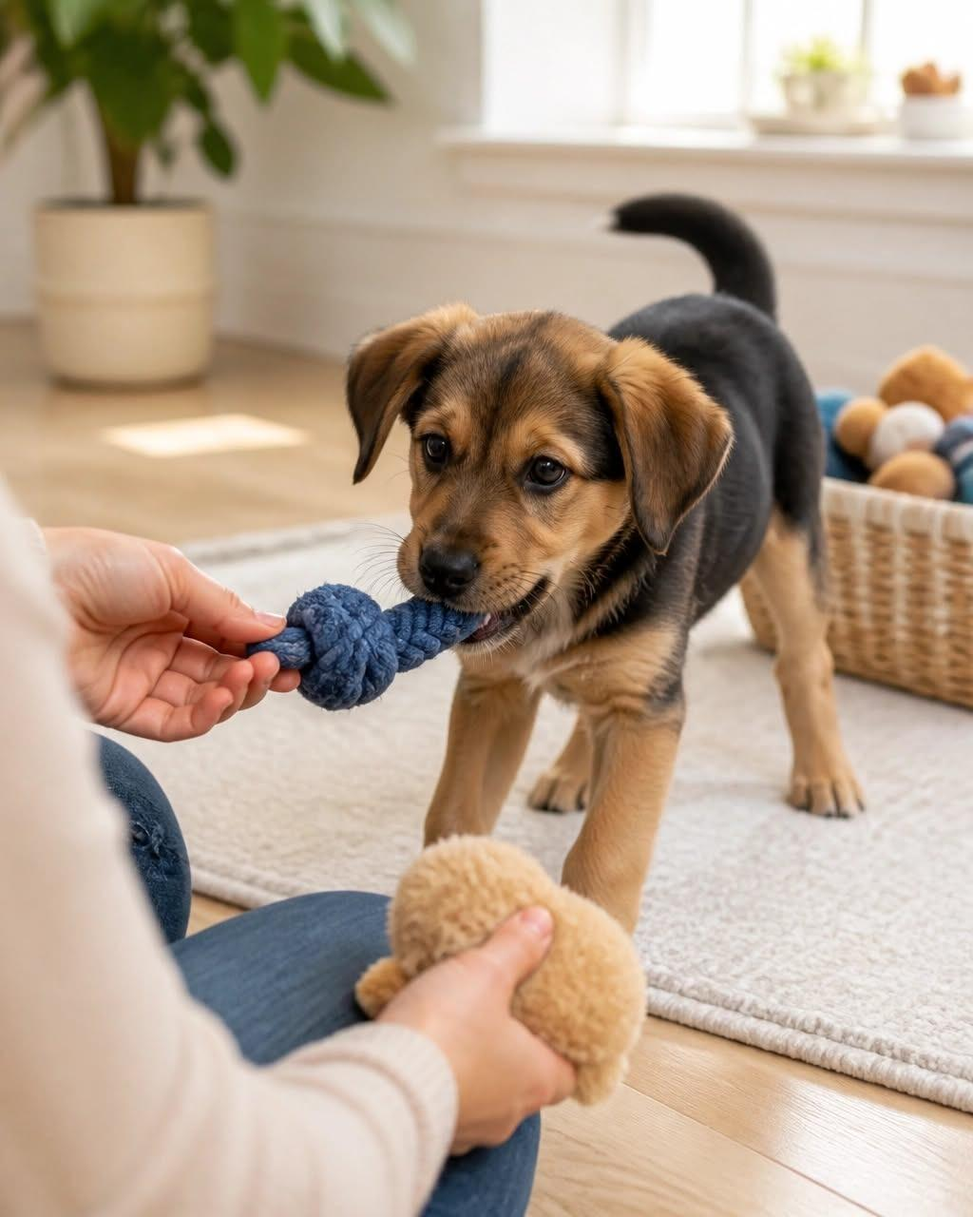non-dog: (1, 517, 579, 1216)
puppy-dog: (345, 191, 866, 937)
